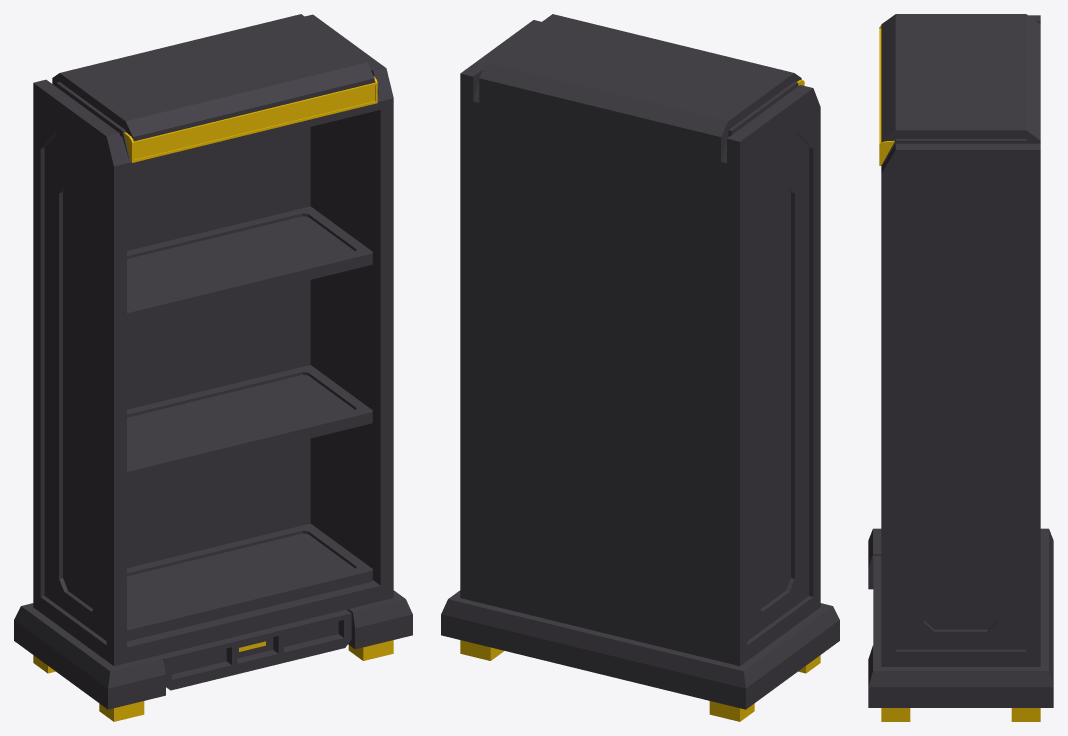
Rendered from SM_Props_Laboratory_03.fbx.
3 views of the same model, side by side, from view 1: azimuth 30°, elevation 25°; view 2: azimuth 150°, elevation 25°; view 3: azimuth 270°, elevation 25° (orthographic).
Visible parts, largest first — view 1: SM_Props_Laboratory_03; view 2: SM_Props_Laboratory_03; view 3: SM_Props_Laboratory_03.
Boxes of the visible parts, x1,y1,x2,y2 form: SM_Props_Laboratory_03: (14, 14, 412, 721); SM_Props_Laboratory_03: (441, 14, 839, 721); SM_Props_Laboratory_03: (868, 14, 1053, 721).
Bounding box in the file's own units: 0.5815 × 1.08 × 0.3106.
